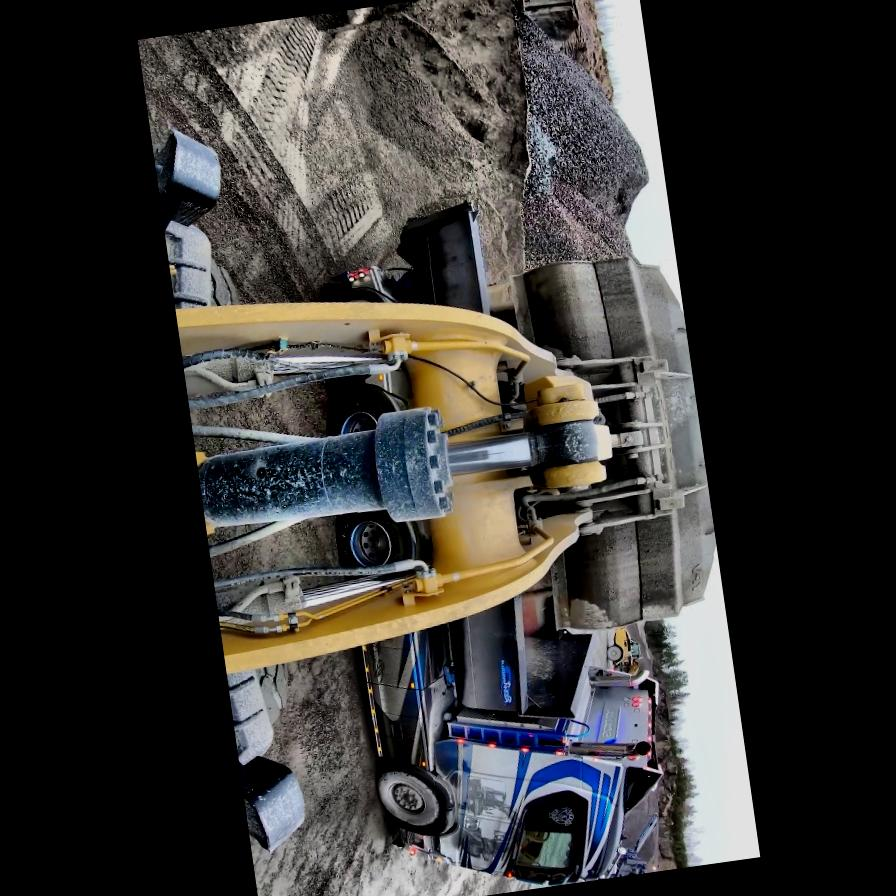anchor: (522, 374, 612, 494)
pile of gravel: (355, 0, 557, 289), (483, 0, 659, 270)
